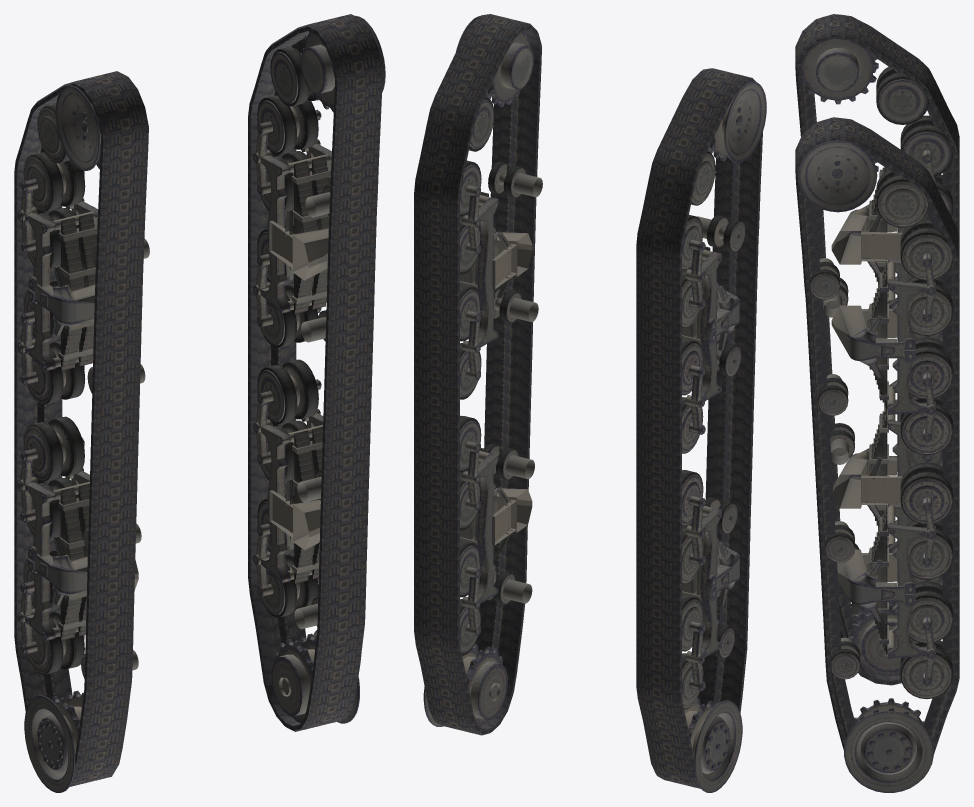
Rendered from Chassis.glb.
3 renders of one model, left to right at view 1: azimuth 30°, elevation 25°; view 2: azimuth 150°, elevation 25°; view 3: azimuth 270°, elevation 25°, orthographic. The views are drawn at different scales.
Visible parts, largest first — view 1: set_2_group_0, set_3_group_0, set_1_group_0, set_0_group_0; view 2: set_3_group_0, set_2_group_0, set_0_group_0, set_1_group_0; view 3: set_0_group_0, set_1_group_0, set_2_group_0, set_3_group_0.
Part boxes in pixels (x1,y1,x2,y2): set_2_group_0: (248, 14, 382, 731); set_3_group_0: (14, 71, 148, 786); set_1_group_0: (17, 85, 149, 792); set_0_group_0: (253, 15, 385, 723); set_3_group_0: (636, 68, 762, 788); set_2_group_0: (414, 14, 541, 735); set_0_group_0: (423, 16, 542, 726); set_1_group_0: (682, 81, 766, 792); set_0_group_0: (797, 140, 953, 792); set_1_group_0: (801, 14, 953, 676); set_2_group_0: (795, 117, 959, 753); set_3_group_0: (795, 14, 959, 685).
Size of the model in its own units: 2.11 by 4.86 by 1.11.
4 materials, 4 textured.
